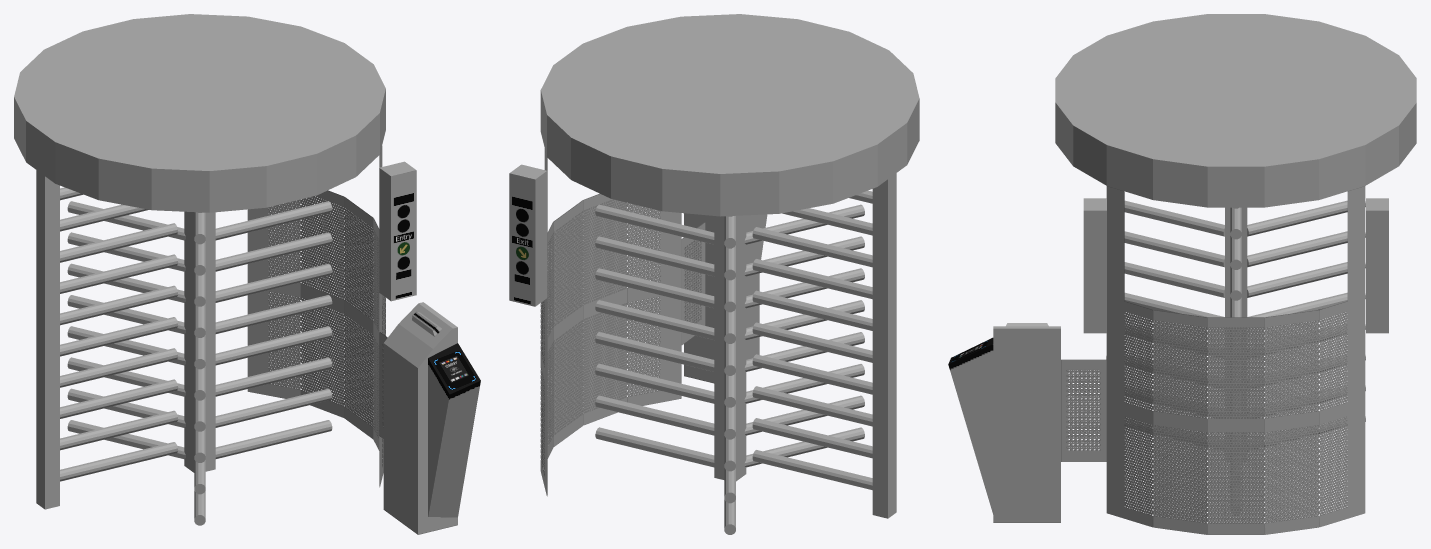
File: nyc_subway_fare_gate_2_twoway_closed.obj
3 views of the same model, side by side, from view 1: azimuth 30°, elevation 25°; view 2: azimuth 150°, elevation 25°; view 3: azimuth 270°, elevation 25° (orthographic). The views are drawn at different scales.
Visible parts, largest first — view 1: top, cube, wall, turnstileStatic, turnstile1, staticRod, turnstile3, turnstileRod, turnstile2; view 2: top, wall, turnstileStatic, turnstile1, cube, staticRod, turnstile2, turnstileRod, turnstile3; view 3: wall, top, cube, turnstile3, turnstile2, turnstileRod, turnstile1.
Boxes of the visible parts, left/top/right/bottom form: top: left=14, top=14, right=385, bottom=212; cube: left=379, top=161, right=480, bottom=534; wall: left=247, top=146, right=385, bottom=487; turnstileStatic: left=60, top=187, right=177, bottom=481; turnstile1: left=215, top=201, right=332, bottom=458; staticRod: left=36, top=170, right=59, bottom=509; turnstile3: left=67, top=201, right=185, bottom=458; turnstileRod: left=184, top=211, right=215, bottom=472; turnstile2: left=194, top=212, right=205, bottom=525; top: left=540, top=14, right=919, bottom=216; wall: left=540, top=148, right=681, bottom=496; turnstileStatic: left=752, top=190, right=872, bottom=490; turnstile1: left=595, top=204, right=714, bottom=467; cube: left=509, top=164, right=767, bottom=383; staticRod: left=872, top=173, right=896, bottom=518; turnstile2: left=744, top=204, right=864, bottom=467; turnstileRod: left=714, top=215, right=746, bottom=481; turnstile3: left=724, top=216, right=735, bottom=534; wall: left=1106, top=186, right=1365, bottom=534; top: left=1055, top=14, right=1416, bottom=207; cube: left=948, top=198, right=1388, bottom=522; turnstile3: left=1247, top=200, right=1365, bottom=448; turnstile2: left=1106, top=200, right=1224, bottom=451; turnstileRod: left=1225, top=207, right=1247, bottom=461; turnstile1: left=1230, top=207, right=1241, bottom=515.
Bounding box in the file's own units: 2 × 2.25 × 2.59.
Materials: 1 (1 with a texture image).
